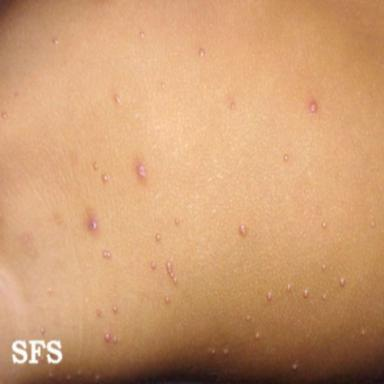Molluscum-Contagiosum: (166, 262, 178, 284), (104, 332, 118, 344), (310, 101, 317, 113), (138, 165, 145, 177), (239, 224, 246, 235), (114, 94, 121, 104), (90, 220, 97, 230), (103, 250, 111, 258), (102, 173, 109, 182), (199, 48, 205, 58), (340, 278, 346, 287), (209, 347, 216, 354), (283, 154, 289, 162), (96, 309, 102, 317), (230, 101, 235, 110), (292, 363, 298, 370), (223, 348, 229, 355), (370, 220, 375, 228), (287, 284, 292, 292), (267, 292, 272, 300), (303, 290, 308, 298), (93, 162, 98, 170), (156, 234, 161, 242), (151, 261, 156, 269), (113, 305, 118, 313), (40, 327, 45, 335), (53, 38, 59, 44), (139, 32, 145, 38), (322, 221, 327, 228), (161, 83, 166, 89), (246, 315, 251, 321), (2, 113, 7, 119), (165, 296, 169, 303), (255, 333, 259, 339), (175, 218, 179, 224), (361, 330, 365, 335), (323, 294, 326, 300), (322, 265, 325, 269)
